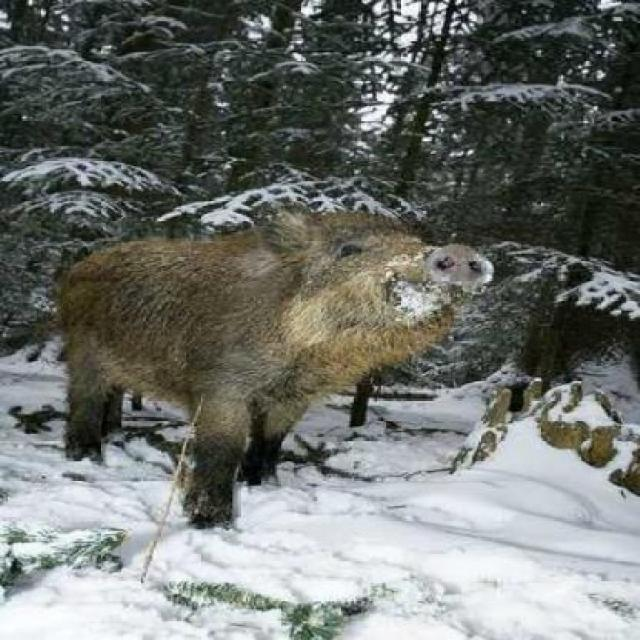pig: (49, 164, 521, 534)
